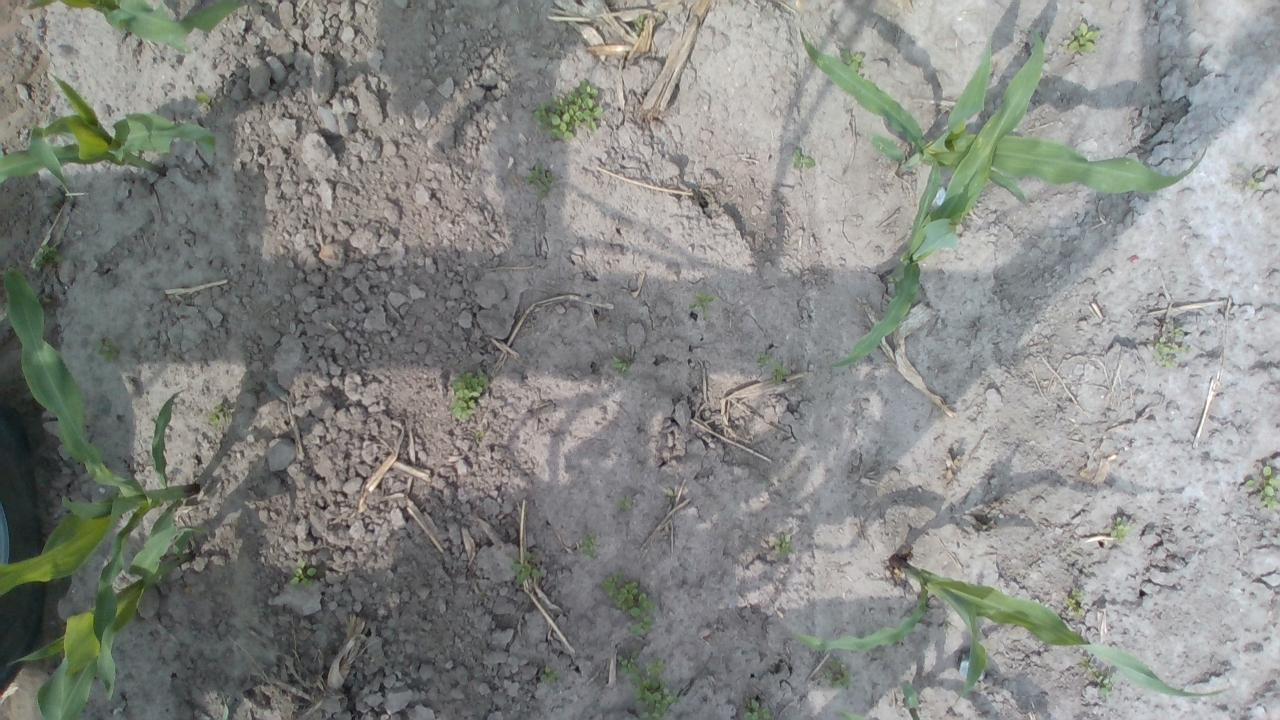Maize: (0, 269, 200, 698), (827, 29, 1045, 368), (796, 28, 1210, 204), (779, 557, 1232, 701), (8, 527, 203, 720), (0, 72, 216, 198), (27, 0, 245, 53), (840, 679, 924, 720)
Weeds: (531, 75, 604, 142), (616, 646, 678, 720), (600, 571, 656, 636), (447, 367, 489, 424), (1078, 652, 1120, 700), (1151, 328, 1192, 369), (1246, 466, 1280, 512), (508, 548, 546, 587), (1058, 22, 1101, 56), (288, 558, 322, 591), (524, 165, 552, 199), (821, 657, 850, 689), (612, 351, 640, 381), (95, 335, 124, 363), (688, 290, 715, 320), (1104, 515, 1135, 540), (34, 244, 67, 266), (1062, 588, 1086, 616), (743, 697, 772, 720), (840, 47, 864, 73), (206, 405, 234, 425), (791, 146, 815, 169), (770, 358, 791, 384), (580, 530, 598, 560), (773, 534, 794, 559), (540, 664, 560, 687), (192, 92, 212, 114), (615, 494, 631, 511), (756, 351, 773, 366), (634, 14, 644, 34), (1246, 174, 1259, 188), (220, 702, 230, 720)
